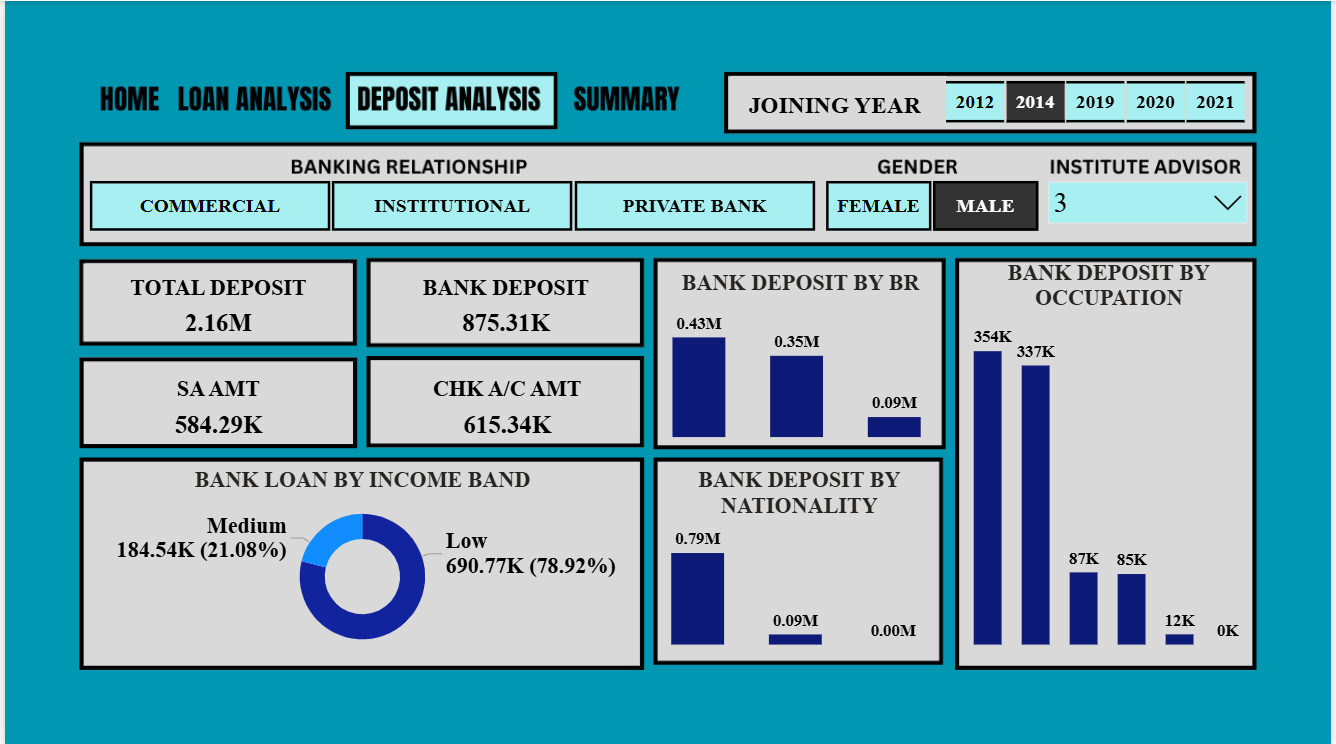

The page's visual inventory and layout, read from the dashboard file:
{"tool":"powerbi","page":{"name":"DEPOSIT ANALYSIS","canvas":[1280,720],"ordinal":2},"visuals":[{"type":"actionButton","box":[83.3,70.8,76.4,47.2],"z":0},{"type":"actionButton","box":[159.7,70.8,159.7,47.2],"z":1000},{"type":"actionButton","box":[547.2,70.8,116.7,47.2],"z":2000},{"type":"cardVisual","fields":{"Data":["Sum(banking_data.Year of Joining)"]},"box":[701.4,72.2,208.3,50],"z":3000},{"type":"slicer","fields":{"Values":["banking_data.Year of Joining"]},"box":[884.7,72.2,336.1,50],"z":4000},{"type":"cardVisual","fields":{"Data":["banking_data.Total Deposit"]},"box":[73.6,248.6,265.3,80.6],"z":5000},{"type":"cardVisual","fields":{"Data":["Sum(banking_data.Bank Deposits)"]},"box":[351.4,248.6,265.3,80.6],"z":6000},{"type":"cardVisual","fields":{"Data":["Sum(banking_data.Saving Accounts)"]},"box":[73.6,345.8,265.3,80.6],"z":7000},{"type":"cardVisual","fields":{"Data":["Sum(banking_data.Checking Accounts)"]},"box":[352.8,345.8,265.3,80.6],"z":8000},{"type":"clusteredColumnChart","title":"BANK DEPOSIT BY BR","fields":{"Category":["banking_data.BRId"],"Y":["Sum(banking_data.Bank Deposits)"]},"box":[639.4,259.4,257,167.7],"z":9000},{"type":"slicer","fields":{"Values":["banking_data.BRId"]},"box":[57.6,168.8,747.9,57.6],"z":10000},{"type":"slicer","fields":{"Values":["banking_data.GenderId"]},"box":[768.4,168.8,252.5,57.6],"z":11000},{"type":"slicer","fields":{"Values":["banking_data.IAId"]},"box":[996.2,164.7,212.7,64.5],"z":12000},{"type":"donutChart","title":"BANK LOAN BY INCOME BAND","fields":{"Category":["banking_data.Income Band"],"Y":["Sum(banking_data.Bank Deposits)"]},"box":[73.6,450,543.1,187.5],"z":13000},{"type":"clusteredColumnChart","title":"BANK DEPOSIT BY NATIONALITY","fields":{"Category":["banking_data.Nationality"],"Y":["Sum(banking_data.Bank Deposits)"]},"box":[638.2,450,257,177.3],"z":14000},{"type":"clusteredColumnChart","title":"BANK DEPOSIT BY OCCUPATION","fields":{"Y":["Sum(banking_data.Bank Deposits)"],"Category":["banking_data.Occupation"]},"box":[930.2,249.7,270.2,377.6],"z":15000}]}

Visuals, with their boxes in screenshot pixels (x1, y1, x2, y2), scaled from the page's 1280x720 canvas onto the 1336x744 screenshot:
actionButton: 87 73 167 122
actionButton: 167 73 333 122
actionButton: 571 73 693 122
cardVisual - Sum(banking_data.Year of Joining): 732 75 949 126
slicer - banking_data.Year of Joining: 923 75 1274 126
cardVisual - banking_data.Total Deposit: 77 257 354 340
cardVisual - Sum(banking_data.Bank Deposits): 367 257 644 340
cardVisual - Sum(banking_data.Saving Accounts): 77 357 354 441
cardVisual - Sum(banking_data.Checking Accounts): 368 357 645 441
"BANK DEPOSIT BY BR" clusteredColumnChart: 667 268 936 441
slicer - banking_data.BRId: 60 174 841 234
slicer - banking_data.GenderId: 802 174 1066 234
slicer - banking_data.IAId: 1040 170 1262 237
"BANK LOAN BY INCOME BAND" donutChart: 77 465 644 659
"BANK DEPOSIT BY NATIONALITY" clusteredColumnChart: 666 465 934 648
"BANK DEPOSIT BY OCCUPATION" clusteredColumnChart: 971 258 1253 648
